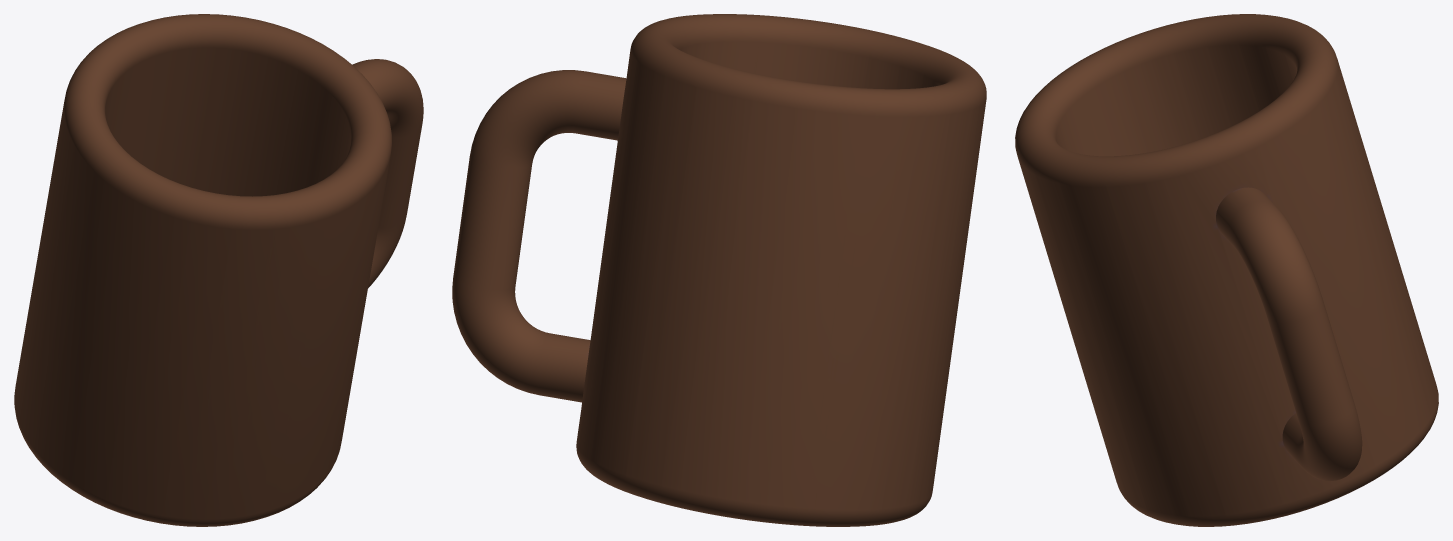
The model's file is coffee_mug.glb.
The picture shows the model from 3 angles, left to right: view 1: azimuth 30°, elevation 25°; view 2: azimuth 150°, elevation 25°; view 3: azimuth 270°, elevation 25°; orthographic projection. The views are drawn at different scales.
Parts seen in each view (by area): view 1: node_id30; view 2: node_id30; view 3: node_id30.
Part boxes in pixels (x1,y1,x2,y2): node_id30: (14,14,423,526); node_id30: (452,14,986,526); node_id30: (1015,14,1438,526).
Bounding box in the file's own units: 0.4968 × 0.5226 × 0.4591.
1 material, 1 textured.
